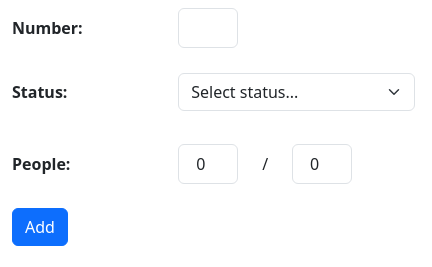
Test: FormTable component › should render warning when selected table number already exist in add form
The width and height of the screenshot is (432, 267).
Type "1" into the field labelled "Number:" at (208, 28), box [178, 8, 238, 48]
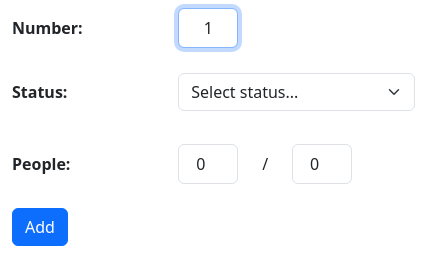
Click the button "Add" at (40, 227), box [12, 208, 68, 246]
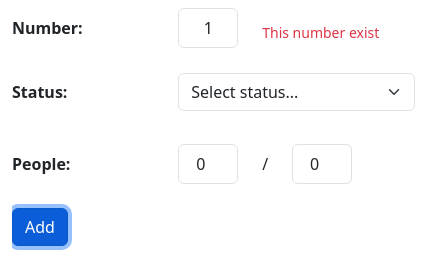
expect the text "This number exist" is shown: met, box [262, 22, 379, 42]
